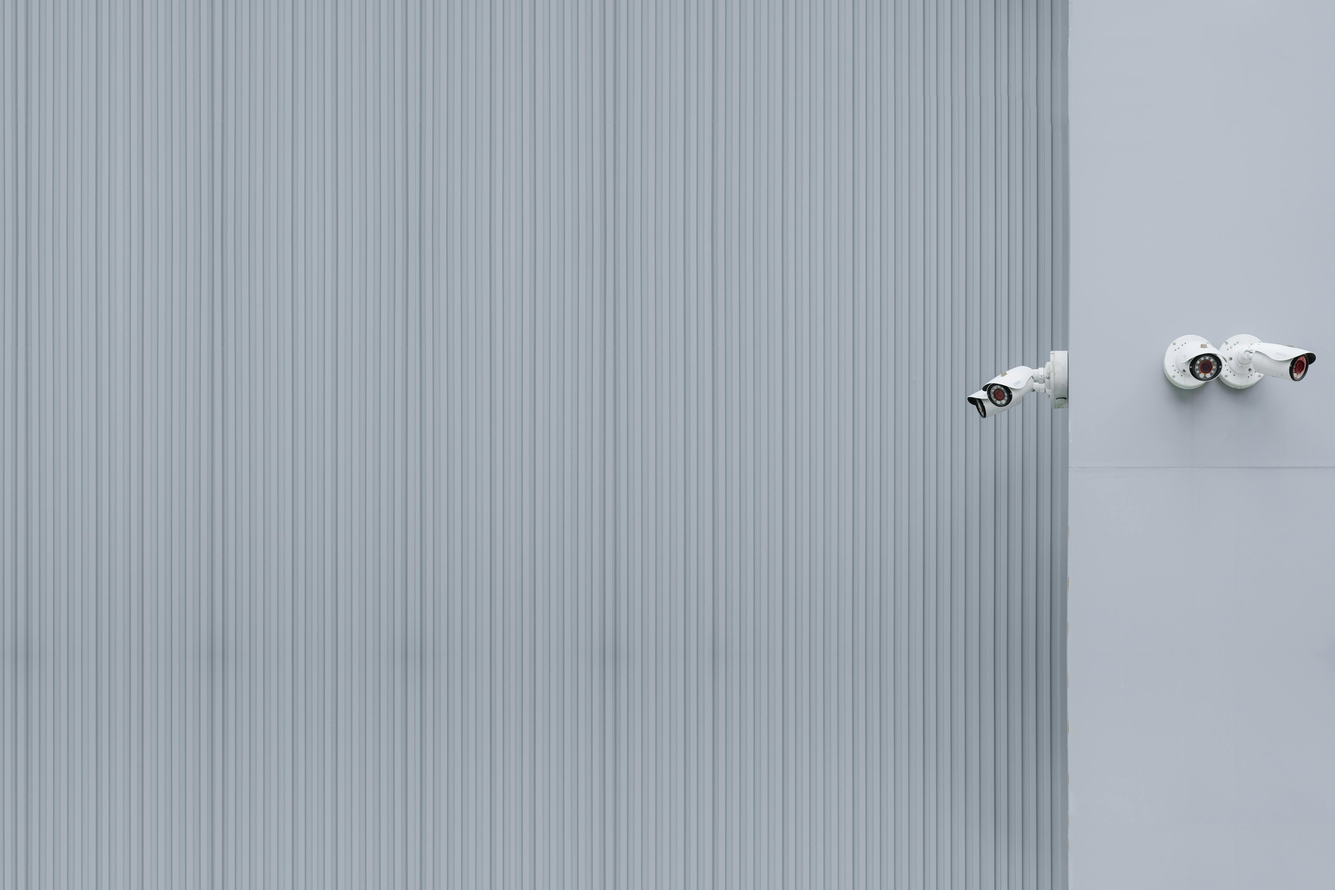camera: (1222, 303, 1328, 450), (892, 344, 1009, 453), (1156, 319, 1243, 428), (973, 344, 1093, 417)
